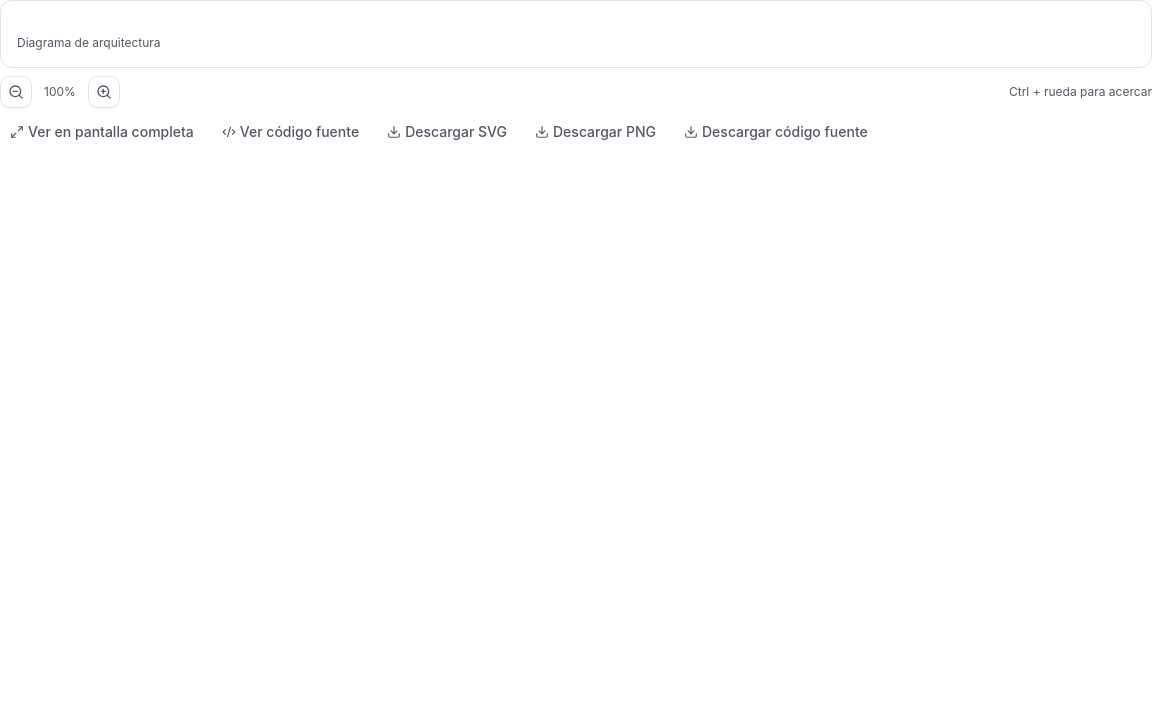
it: DiagramViewer — fullscreen mode › opens fullscreen, locks body scroll, shows header with actions and closes via button
Open fullscreen
Step 1. Click the button "Ver en pantalla completa" → (102, 132), box [0, 116, 204, 148]
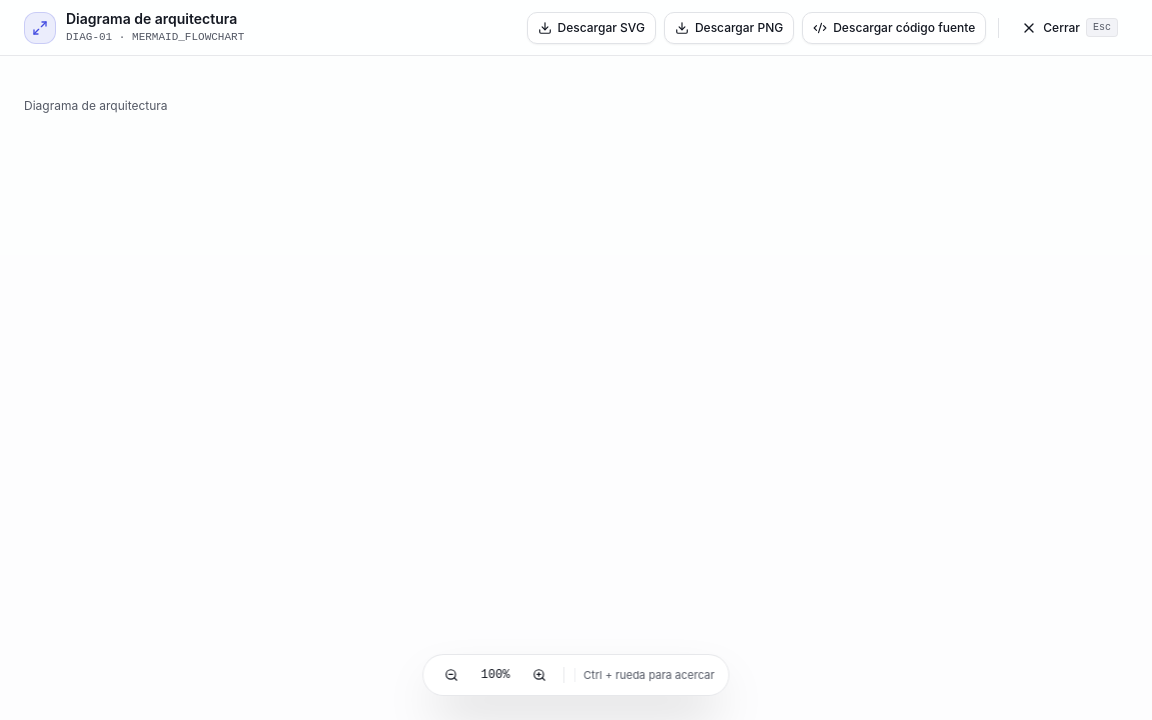
Expected: the dialog "Diagrama de arquitectura" is shown
Expected: the header shows "Diagrama de arquitectura", [66, 10, 237, 27]
Expected: the header shows "DIAG-01 · MERMAID_FLOWCHART", [0, 0, 1151, 56]
Close via Cerrar button
Step 2. Click the button with aria-label "Cerrar pantalla completa" → (1070, 28), box [1011, 12, 1128, 44]
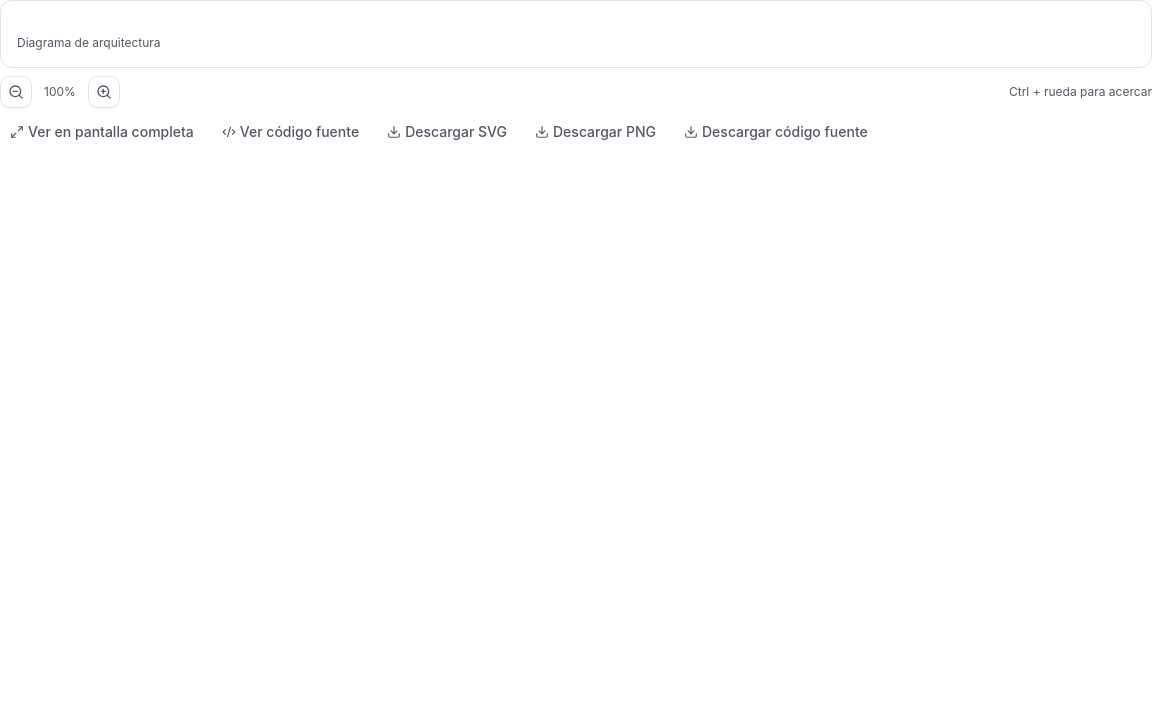
Expected: the dialog is gone
